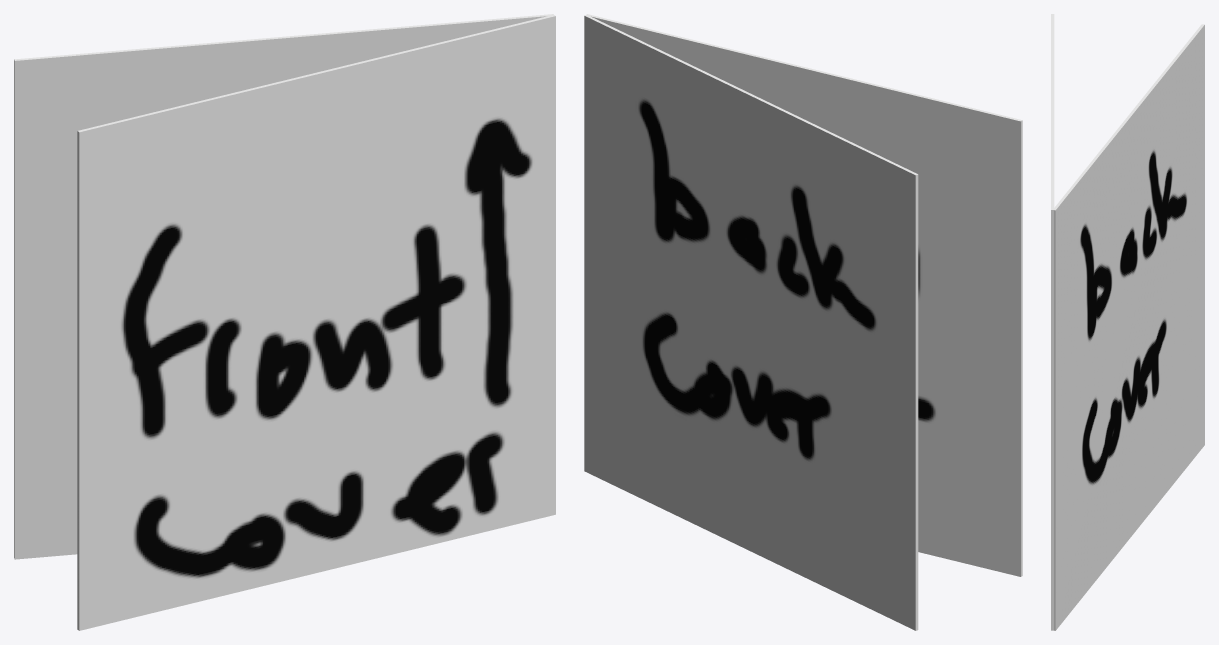
File: GreetCard.obj
The picture shows the model from 3 angles, left to right: view 1: azimuth 30°, elevation 25°; view 2: azimuth 150°, elevation 25°; view 3: azimuth 270°, elevation 25°; orthographic projection. The views are drawn at different scales.
Visible parts, largest first — view 1: Cube.001_Cube.003; view 2: Cube.001_Cube.003; view 3: Cube.001_Cube.003.
Part boxes in pixels (x1,y1,x2,y2): Cube.001_Cube.003: (14,14,555,630); Cube.001_Cube.003: (584,14,1022,630); Cube.001_Cube.003: (1051,14,1204,630).
Bounding box in the file's own units: 2 × 2 × 0.6622.
